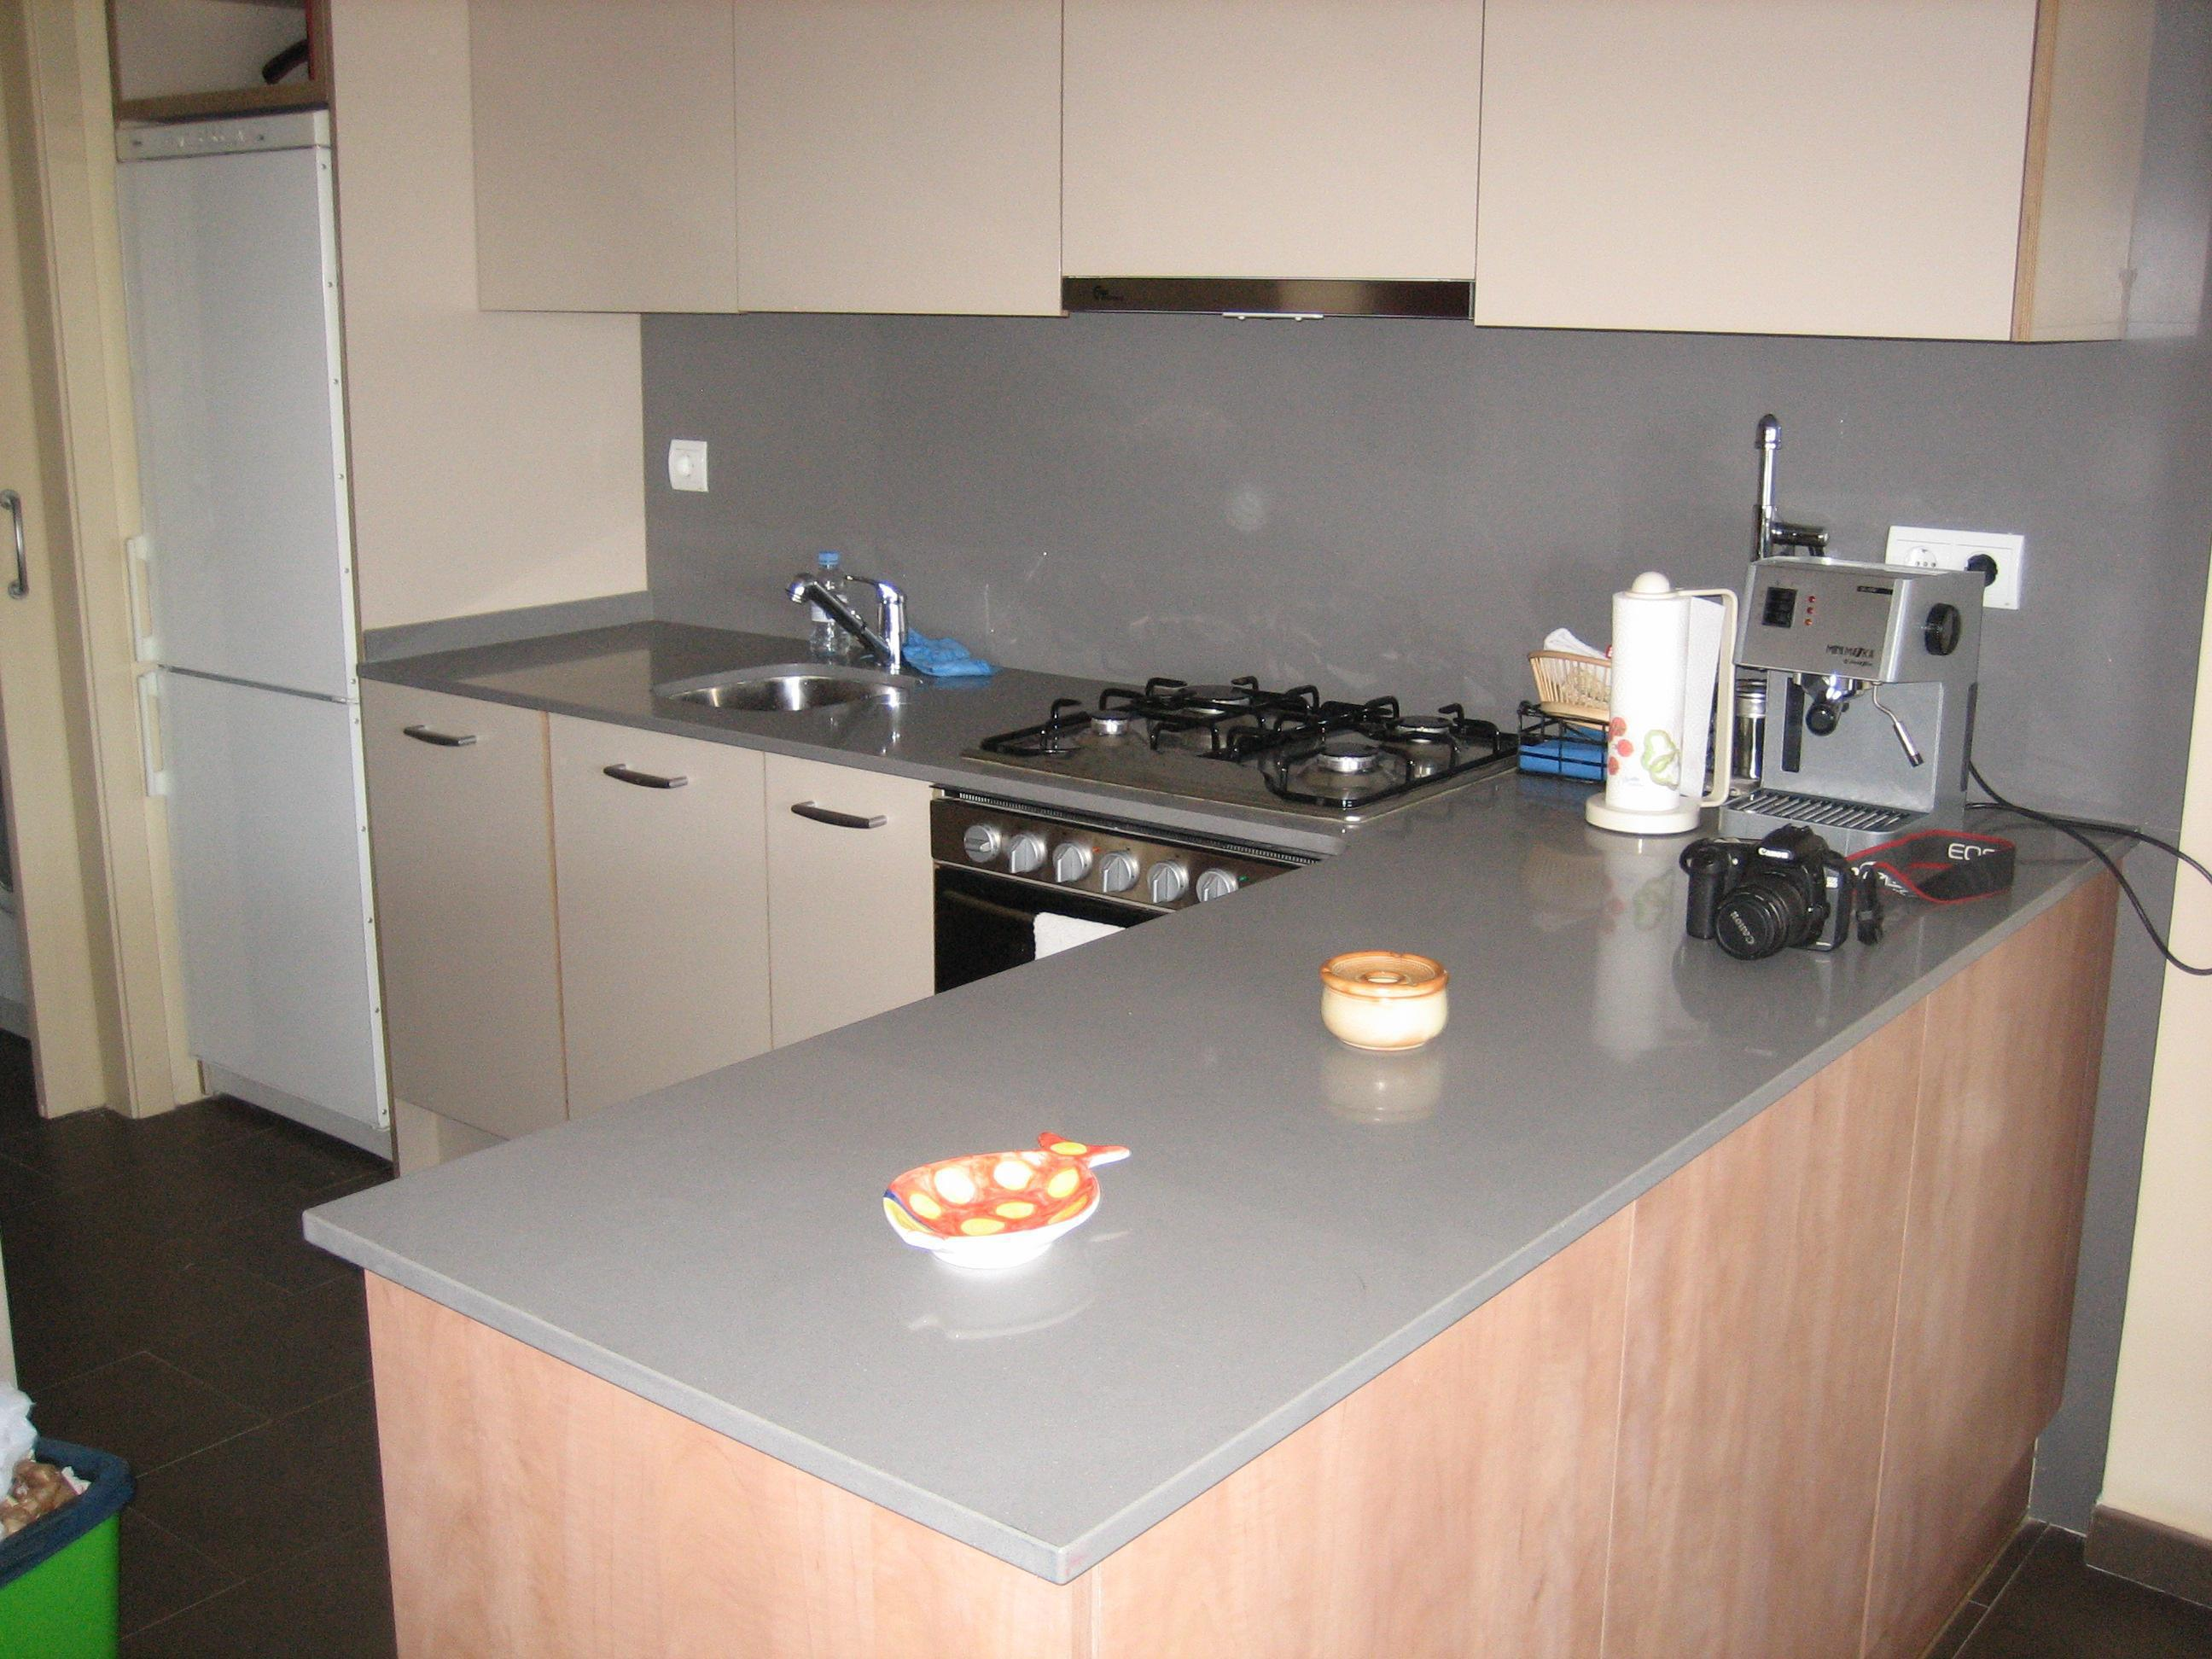Bote de Basura: (14, 1358, 152, 1656)
Electrodomestico: (930, 669, 1501, 1295), (47, 91, 348, 1127), (1590, 519, 1989, 955)
Lavaplatos: (697, 565, 932, 730)
